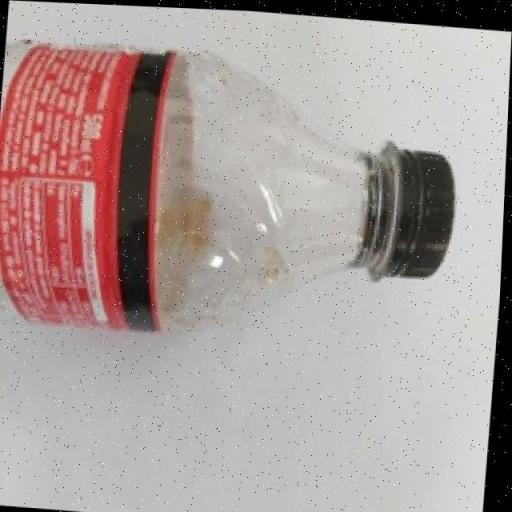plastic: (0, 26, 487, 367)
